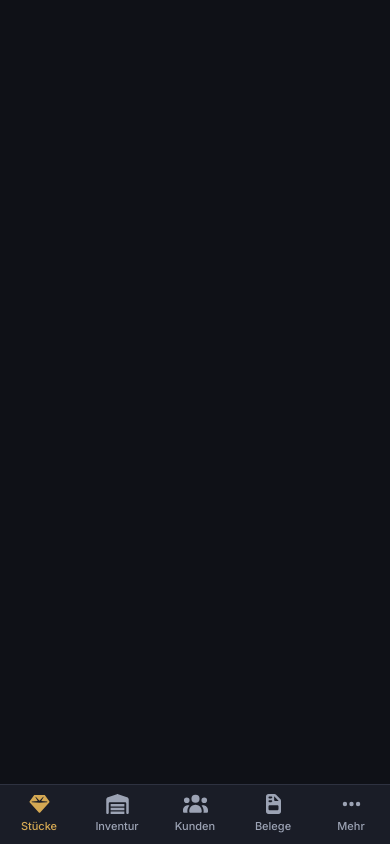
Test: MobileTabBar › Sichtbarkeit je Rolle › Admin sieht zusätzlich den Admin-Bereich in Mehr
What coordinates should you click on to do the following:
click the button "Mehr"
I would click on:
 (351, 814)
Its box is [312, 785, 389, 843].
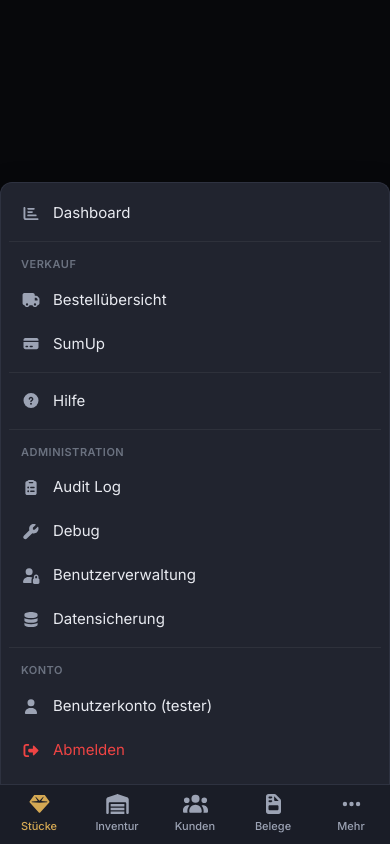
Result: the text "Administration" is shown at [21, 445, 124, 459]
Result: the link "Audit Log" is shown at [21, 477, 121, 496]
Result: the link "Debug" is shown at [21, 521, 100, 540]
